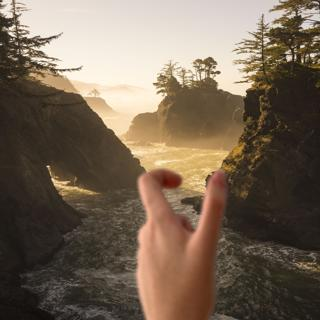HATE: (118, 165, 230, 315)
